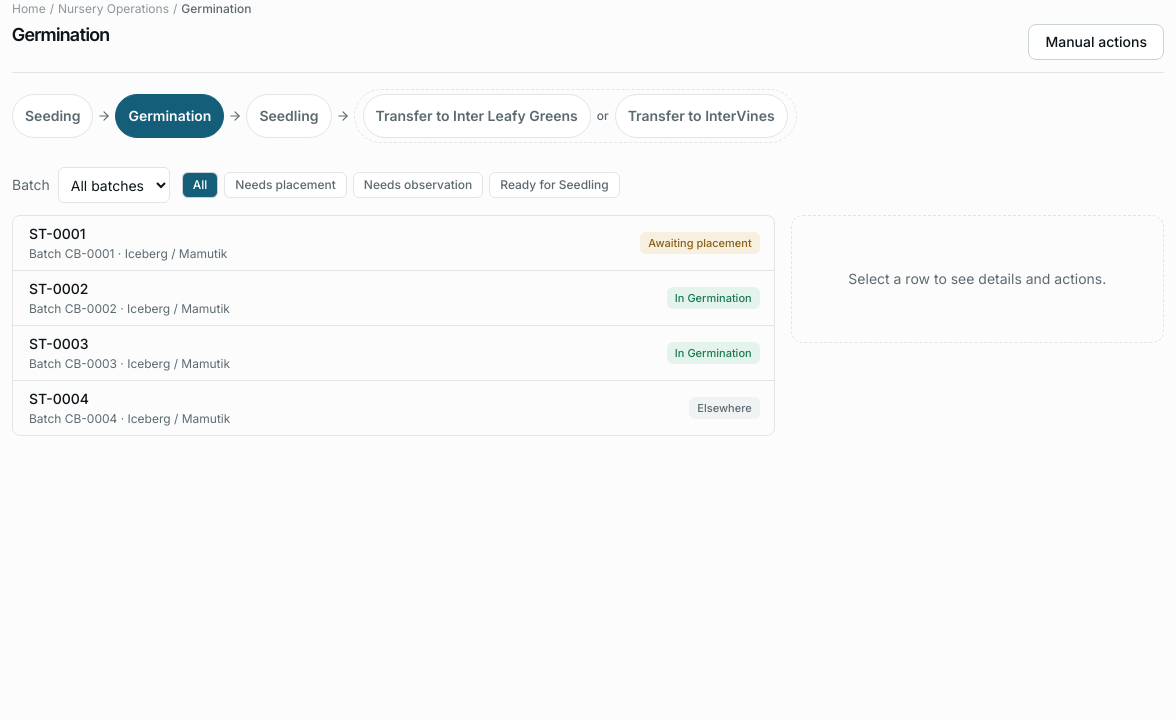
Test case: GerminationPage worklist › opens the Place Trolley form and returns to the list on cancel
Expected: the text "ST-0001" is shown, [29,224,86,244]
Click the button "Manual actions" at (1096, 42), box [1028,24,1164,60]
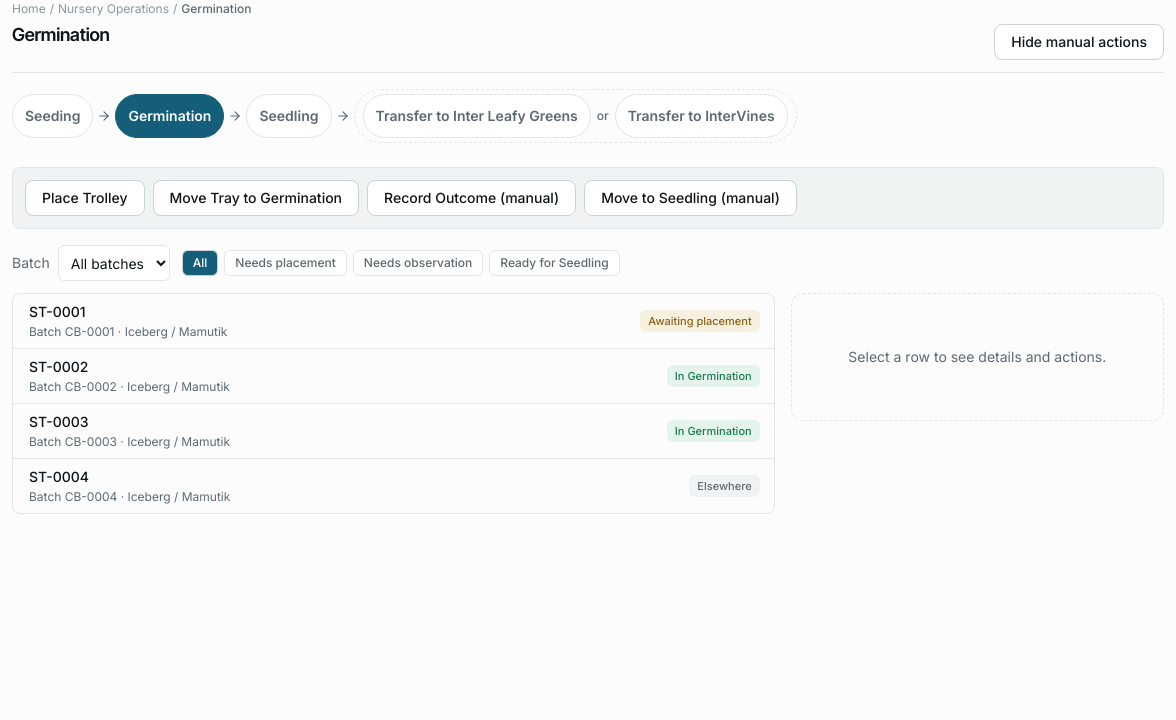
Click the button "Place Trolley" at (85, 198), box [25,180,144,216]
(page scrolled)
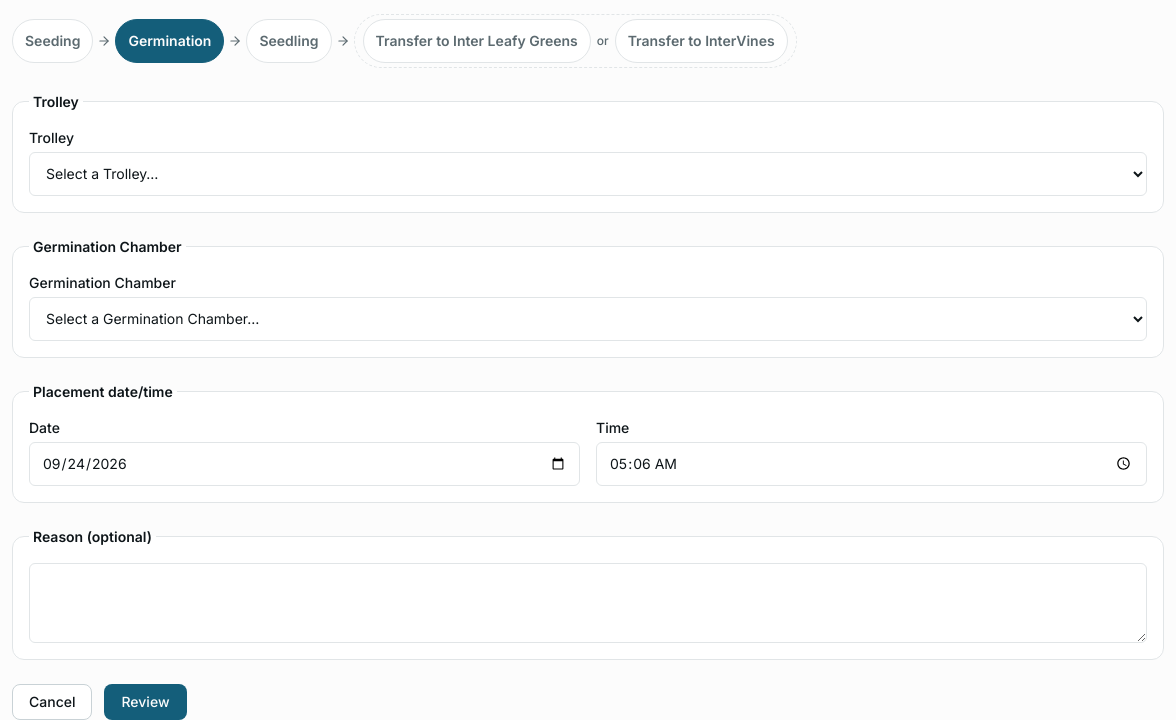
Result: the dropdown labelled "Trolley" is shown at [29,152,1147,196]
Click the button "Cancel" at (52, 702), box [12,684,92,719]
(page scrolled)
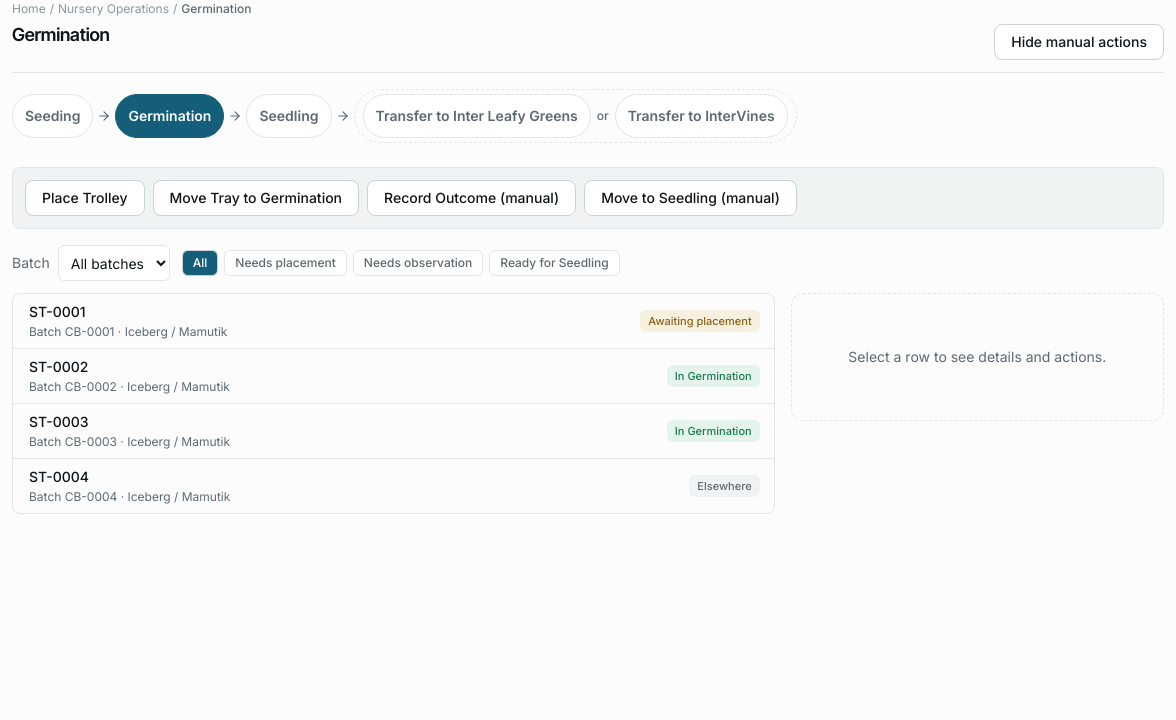
Result: the text "ST-0001" is shown at [29,302,86,322]
